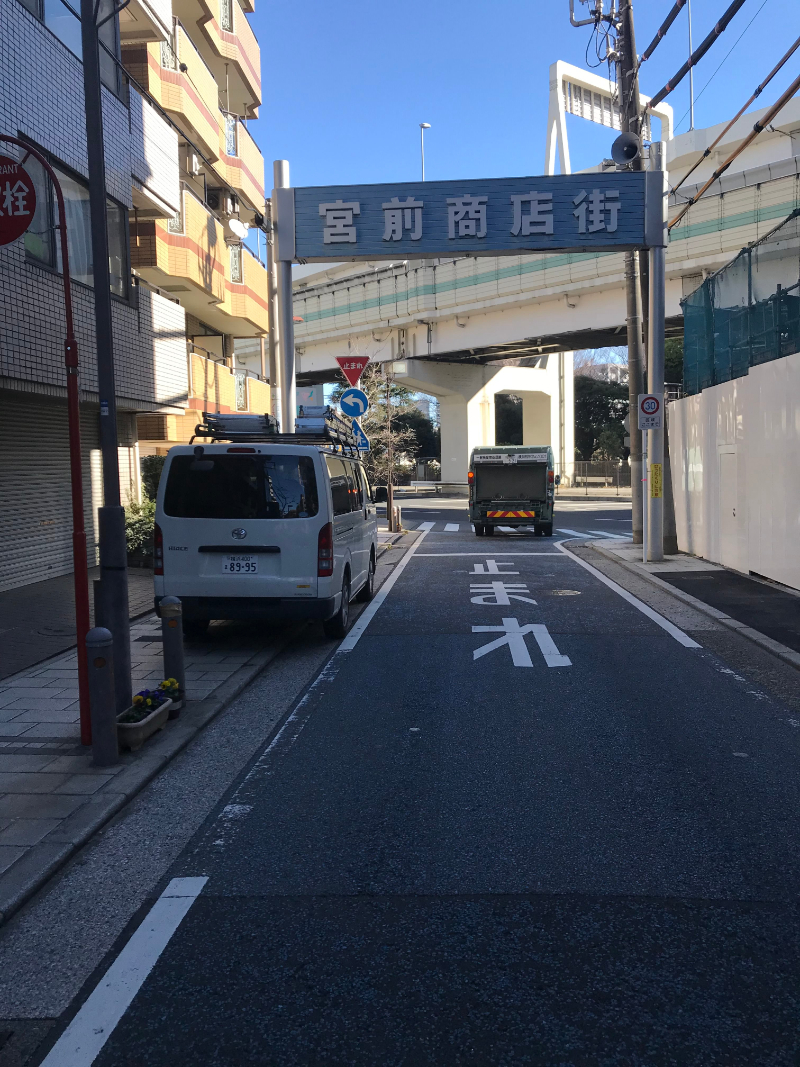STOP: (332, 355, 372, 388)
